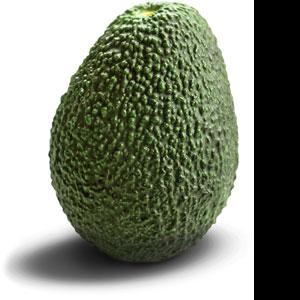unripe: (48, 1, 239, 264)
